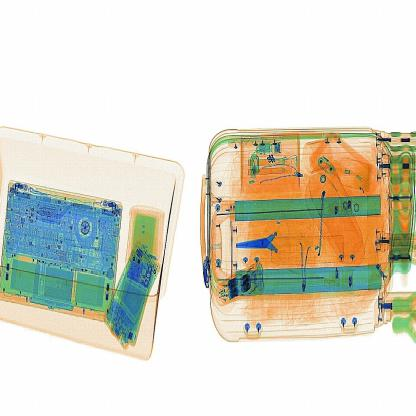gun: (236, 231, 292, 260)
